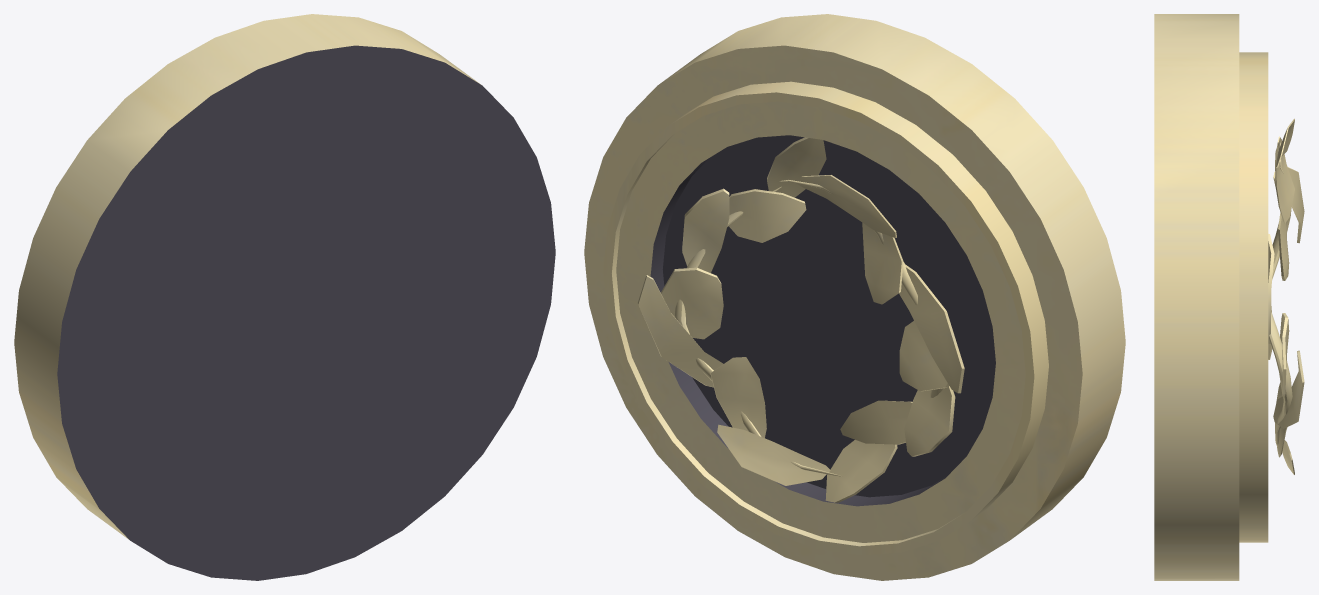
The model's file is RoundLaurelFrame.fbx.
3 renders of one model, left to right at view 1: azimuth 30°, elevation 25°; view 2: azimuth 150°, elevation 25°; view 3: azimuth 270°, elevation 25°, orthographic.
Visible parts, largest first — view 1: Circle.003; view 2: Circle.003; view 3: Circle.003.
Boxes of the visible parts, x1,y1,x2,y2 form: Circle.003: [14, 14, 555, 580]; Circle.003: [584, 14, 1125, 580]; Circle.003: [1154, 14, 1304, 580].
Size of the model in its own units: 1000 by 1000 by 265.
Materials: 2 (2 with a texture image).
